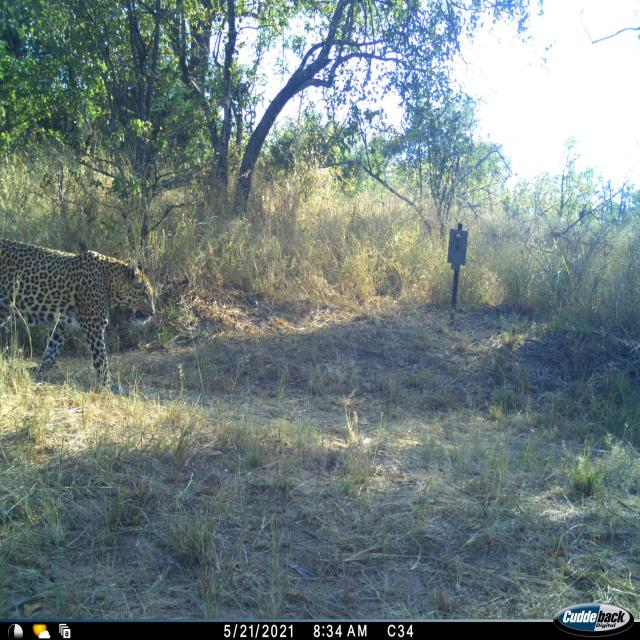Leopard: (2, 228, 154, 390)
